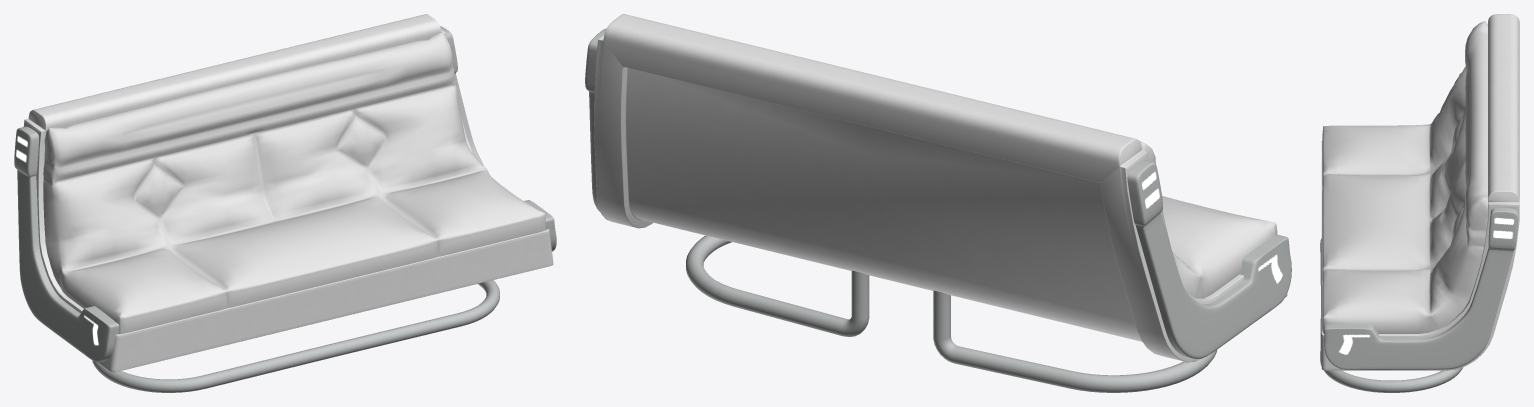
The model's file is Sofa04.FBX.
3 views of the same model, side by side, from view 1: azimuth 30°, elevation 25°; view 2: azimuth 150°, elevation 25°; view 3: azimuth 270°, elevation 25° (orthographic). The views are drawn at different scales.
Parts seen in each view (by area): view 1: Sofa04; view 2: Sofa04; view 3: Sofa04.
Part boxes in pixels (x1,y1,x2,y2): Sofa04: (14,14,556,392); Sofa04: (585,14,1291,392); Sofa04: (1320,14,1519,392).
Size of what is drawn, in the model's own units: 2.65 by 1.24 by 1.09.
